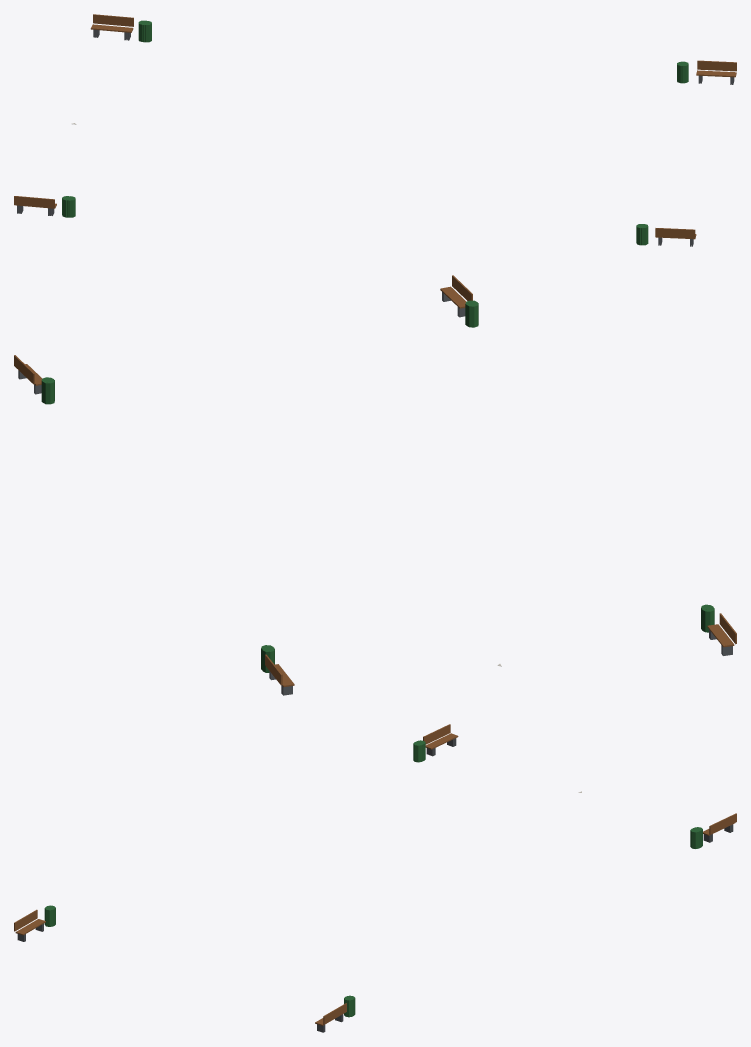
The model's file is sf_lgs2.glb.
The picture shows the model from 3 angles, top to bottom: view 1: azimuth 30°, elevation 25°; view 2: azimuth 150°, elevation 25°; view 3: azimuth 270°, elevation 25°; orthographic projection. The views are drawn at different scales.
Visible parts, largest first — view 1: sf_lgs2_lod0; view 2: sf_lgs2_lod0; view 3: sf_lgs2_lod0.
Part boxes in pixels (x1,y1,x2,y2): sf_lgs2_lod0: (14, 14, 736, 246); sf_lgs2_lod0: (14, 275, 736, 695); sf_lgs2_lod0: (14, 724, 736, 1032).
Size of what is drawn, in the model's own units: 35.94 by 2.02 by 35.14.
